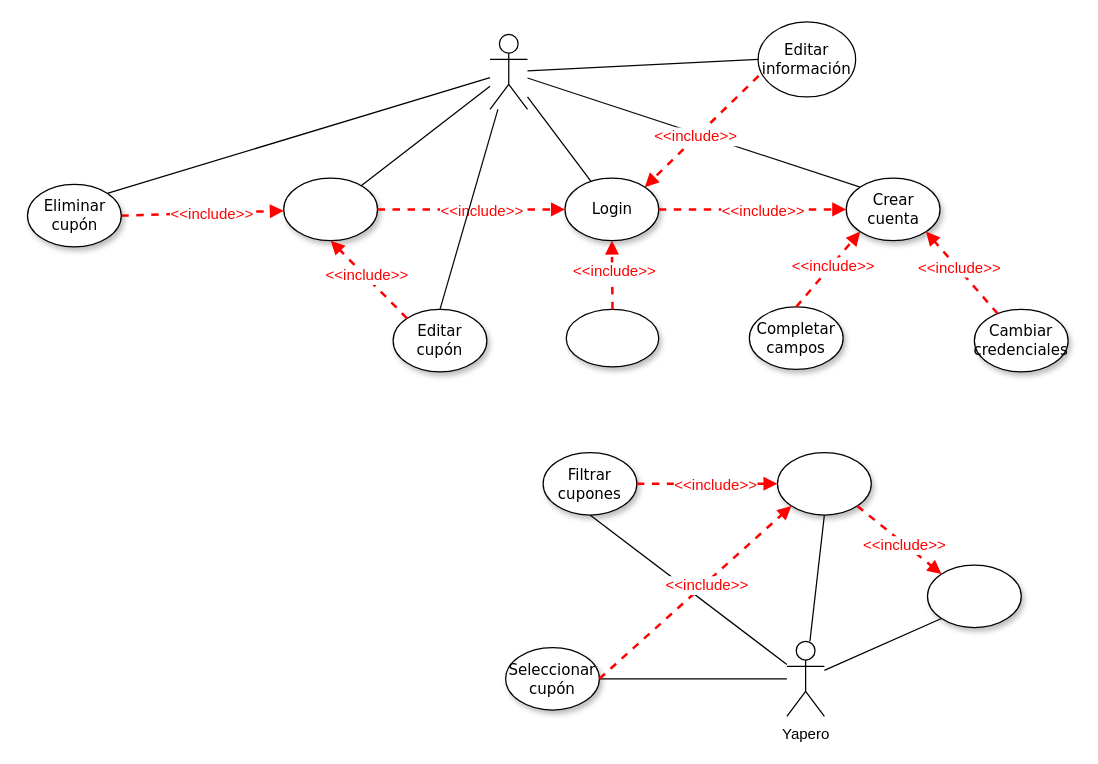
This 1098x764 diagram has some shape labels left out. Each missing label, with the centre of its shape:
"Acceder a pestaña Cupones" belongs at (825,485).
"Acceder a Yape" belongs at (975,597).
"Agregar cupón" belongs at (331,210).
"Persona de negocio" belongs at (508,71).
"Reingresar datos" belongs at (613,339).
